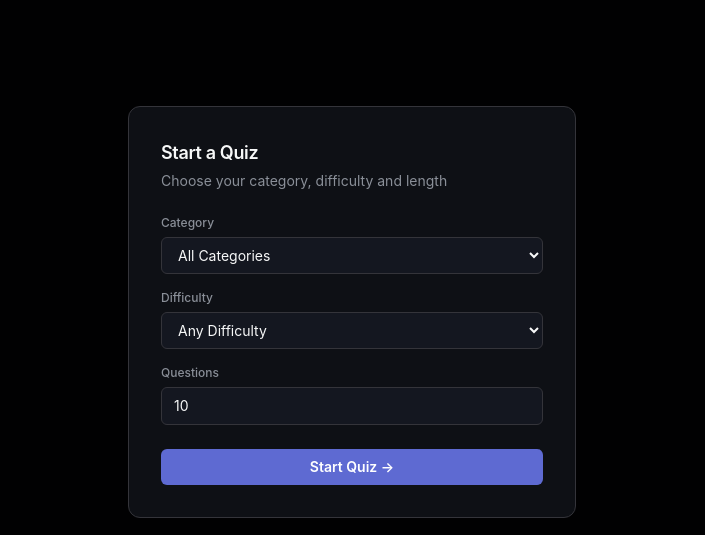
Quiz › advances to the next question after answering and clicking Next
Step 1. Click the button "Start Quiz →" → (352, 467), box [161,449,543,485]
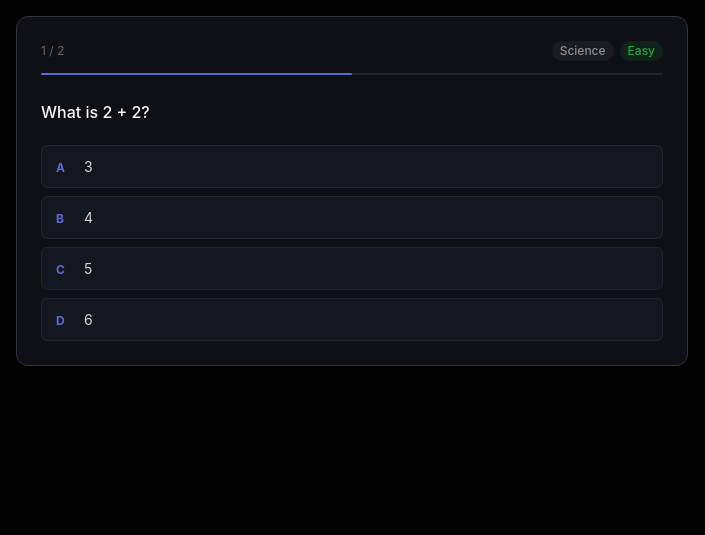
Expected: the text "What is 2 + 2?" is shown, [41,102,150,122]
// Select an answer to reveal the Next button
Step 2. Click the button "B 4" → (60, 218), box [41,196,663,239]
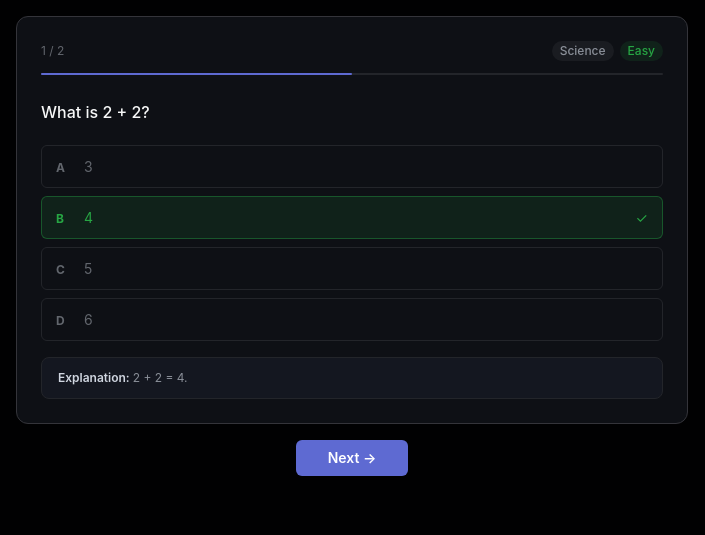
Expected: the button "Next →" is shown
Step 3. Click the button "Next →" → (352, 458), box [296,440,408,476]
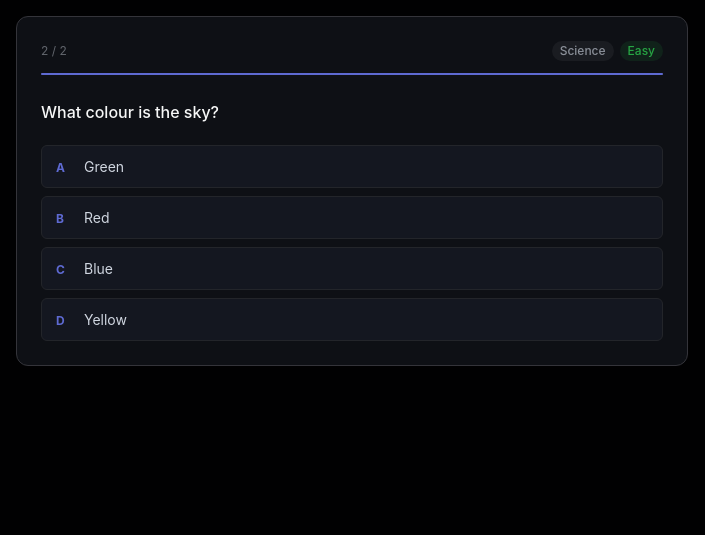
Expected: the text "What colour is the sky?" is shown, [41,102,219,122]
